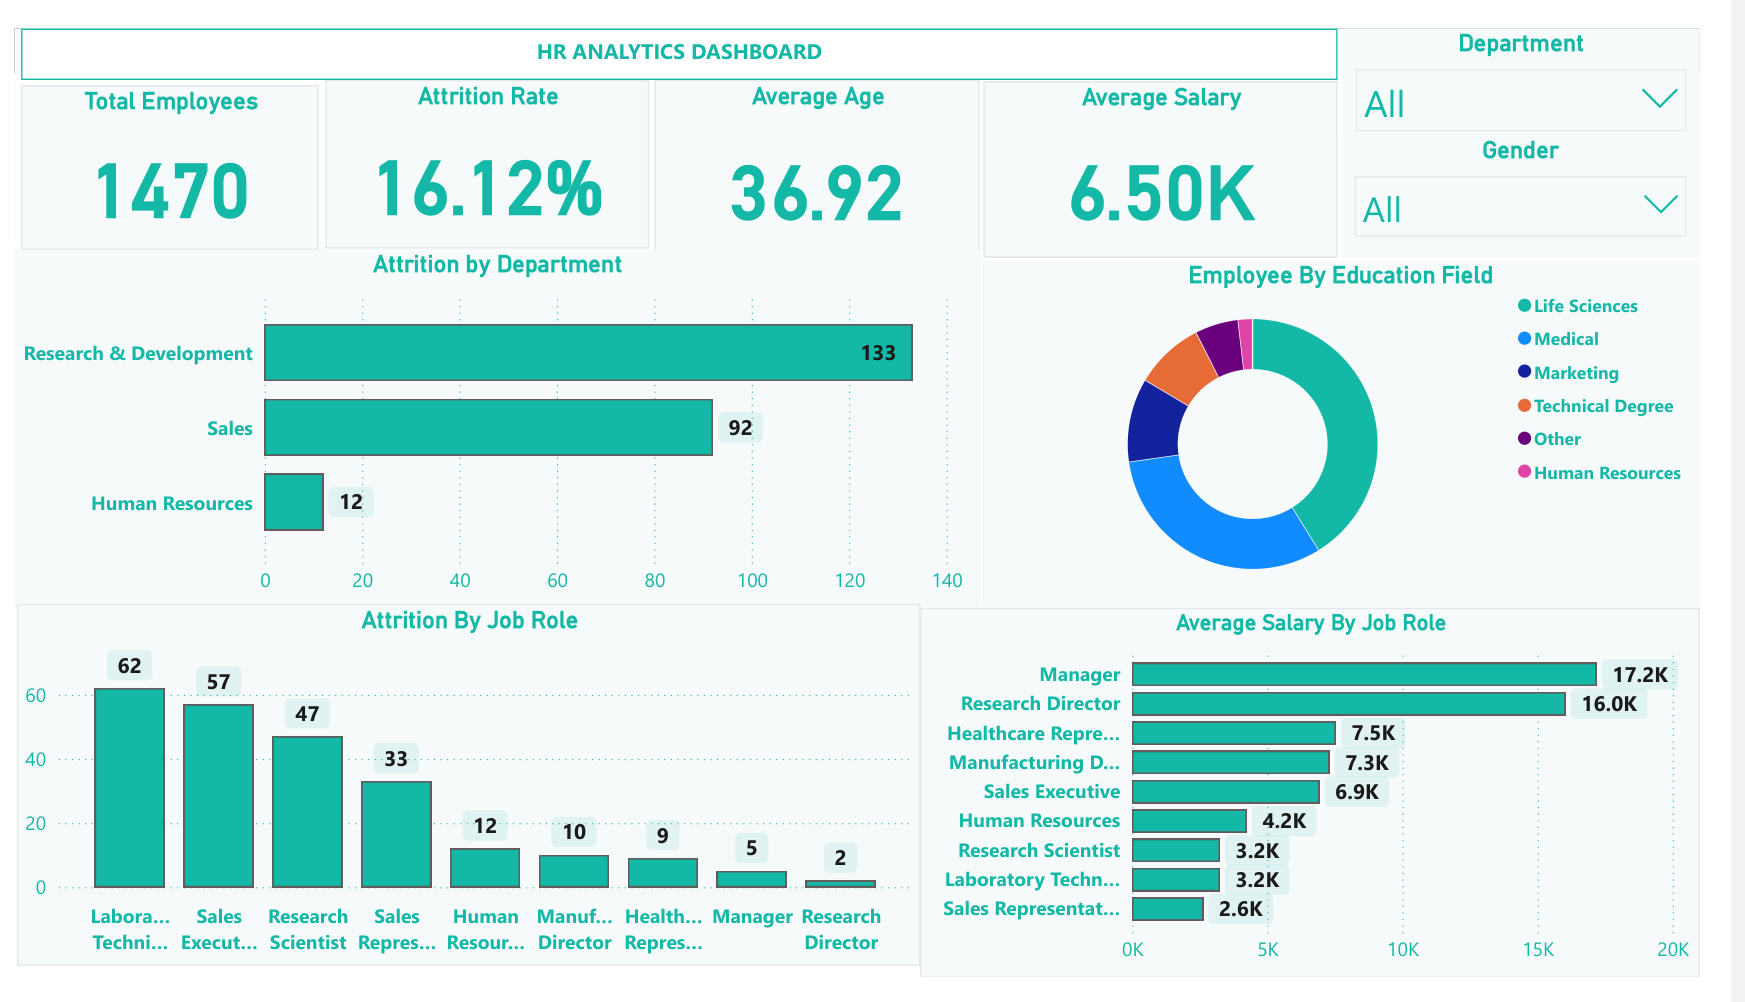

What the dashboard file says about the page in this screenshot:
{"tool":"powerbi","page":{"name":"Page 1","canvas":[1280,720],"ordinal":0},"visuals":[{"type":"card","title":"Total Employees","fields":{"Values":["Sum(WA_Fn-UseC_-HR-Employee-Attrition.EmployeeCount)"]},"box":[5.2,43,225.4,124.8],"z":0},{"type":"card","title":"Attrition Rate ","fields":{"Values":["hr data.Attrition Rate"]},"box":[235.9,38.8,246.4,127.9],"z":1000},{"type":"card","title":"Average Age ","fields":{"Values":["Avg(hr data.Age)"]},"box":[486.4,38.8,246.4,135.2],"z":2000},{"type":"card","title":"Average  Salary ","fields":{"Values":["Avg(hr data.MonthlyIncome)"]},"box":[735.9,39.8,269.4,134.2],"z":3000},{"type":"barChart","title":" Attrition by Department","fields":{"Category":["hr data.Department"],"Y":["CountNonNull(hr data.Attrition)"]},"box":[0,167.7,733.8,271.5],"z":5000},{"type":"columnChart","title":"Attrition By Job Role ","fields":{"Category":["hr data.JobRole"],"Y":["CountNonNull(hr data.Attrition)"]},"box":[1.7,436.6,686.1,275.5],"z":6000},{"type":"barChart","title":"Average Salary By Job Role ","fields":{"Category":["hr data.JobRole"],"Y":["Avg(hr data.MonthlyIncome)"]},"box":[687.8,440.1,592.5,280.7],"z":7000},{"type":"donutChart","title":"Employee By Education Field","fields":{"Category":["hr data.EducationField"],"Y":["Count(hr data.EmployeeNumber)","hr data.Attrition Rate"]},"box":[734.9,176.1,545.1,263.1],"z":8000},{"type":"slicer","title":"Department ","fields":{"Values":["hr data.Department"]},"box":[1008.5,0,271.5,82.8],"z":9000},{"type":"slicer","title":"Gender ","fields":{"Values":["hr data.Gender"]},"box":[1008.5,80.7,271.5,93.3],"z":10000},{"type":"textbox","box":[5.2,0,1000.1,38.8],"z":11000}]}

Visuals, with their boxes in screenshot pixels (x1, y1, x2, y2), scaled from the page's 1280x720 canvas onto the 1745x1002 screenshot:
"Total Employees" card: crop(7, 60, 314, 234)
"Attrition Rate " card: crop(322, 54, 658, 232)
"Average Age " card: crop(663, 54, 999, 242)
"Average  Salary " card: crop(1003, 55, 1371, 242)
" Attrition by Department" barChart: crop(0, 233, 1000, 611)
"Attrition By Job Role " columnChart: crop(2, 608, 938, 991)
"Average Salary By Job Role " barChart: crop(938, 612, 1744, 1001)
"Employee By Education Field" donutChart: crop(1002, 245, 1744, 611)
"Department " slicer: crop(1375, 0, 1744, 115)
"Gender " slicer: crop(1375, 112, 1744, 242)
textbox: crop(7, 0, 1371, 54)
